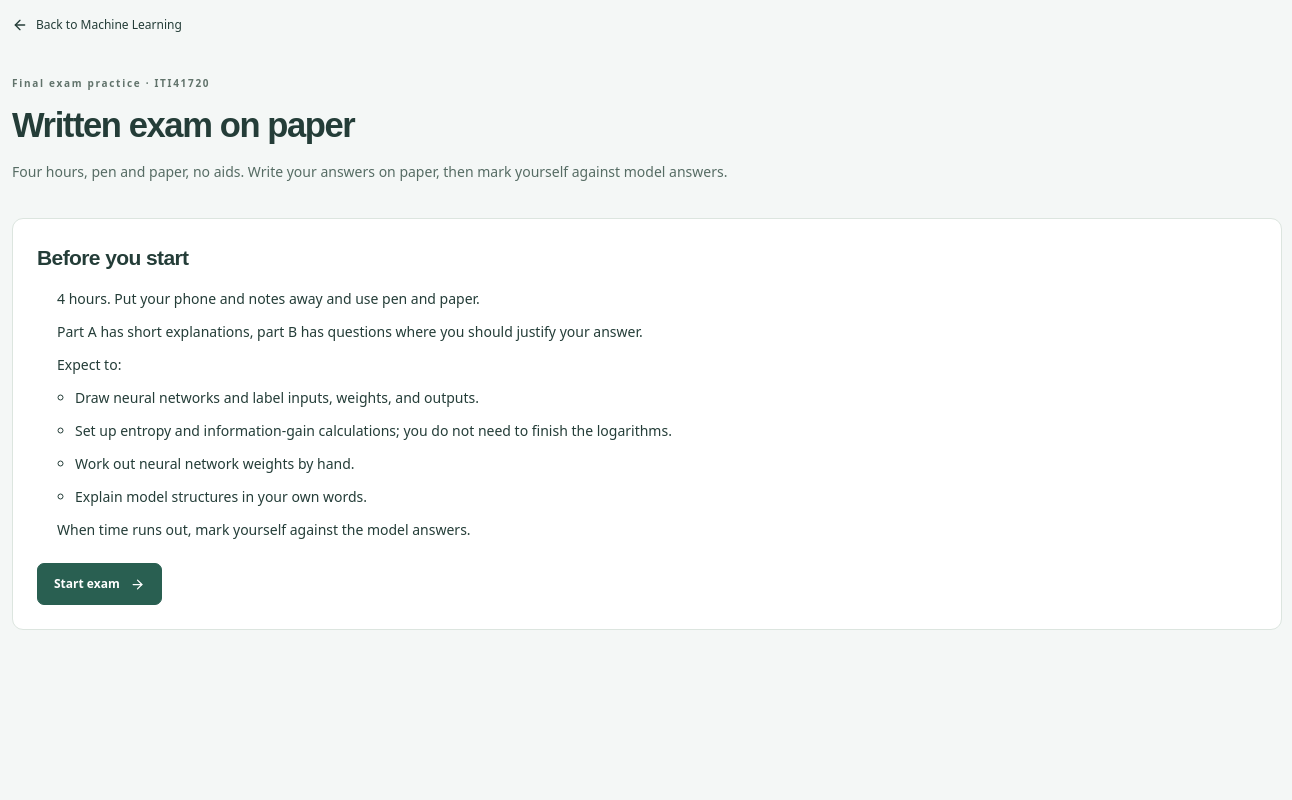
runs a four-hour written exam and lets you mark yourself
What coordinates should you click on to do the following:
click the button "Start exam"
I would click on:
 (99, 584)
Its box is [37,563,162,605].
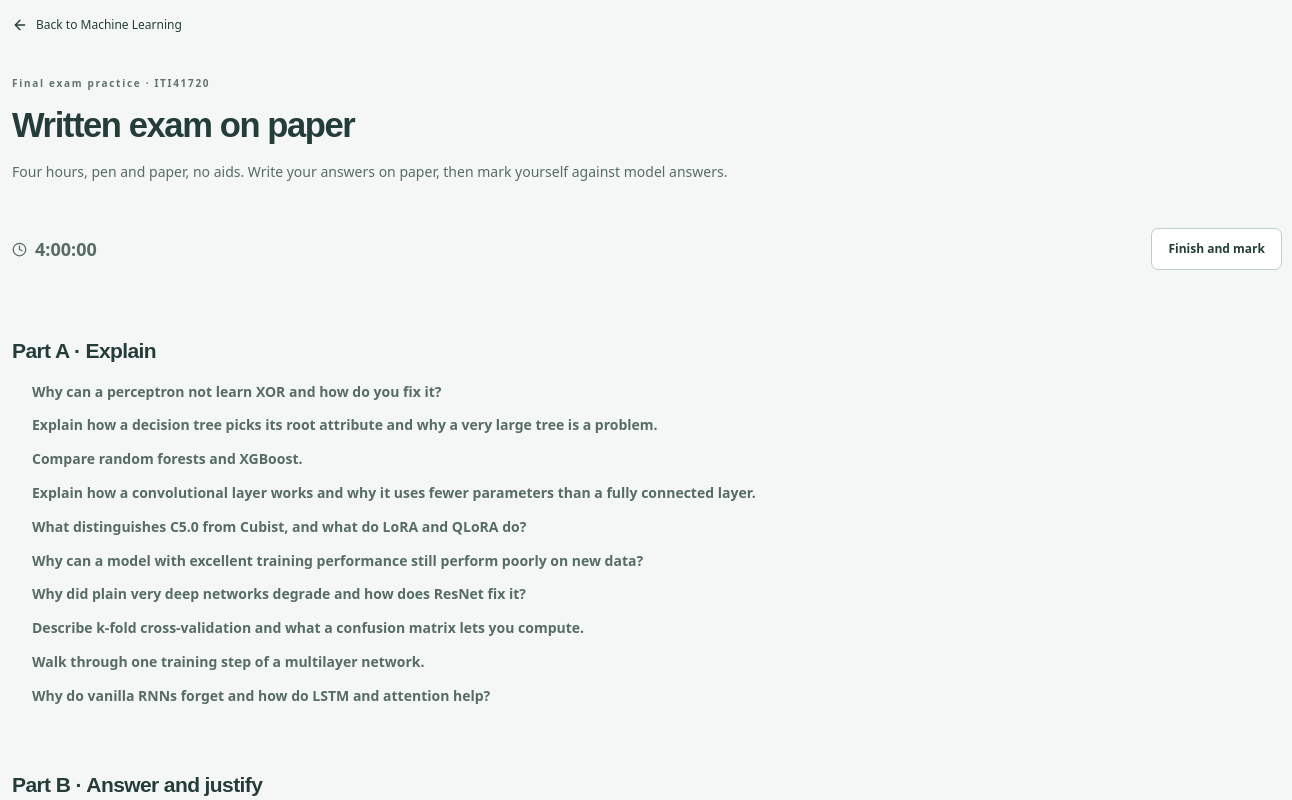
Result: the element showing "4:00:00" is shown at [12,234,97,265]
Result: the heading "Part A · Explain" is shown at [12,339,156,362]
What coordinates should you click on to do the following:
click the button "Finish and mark"
I would click on:
 (1217, 249)
Its box is [1152,228,1282,270].
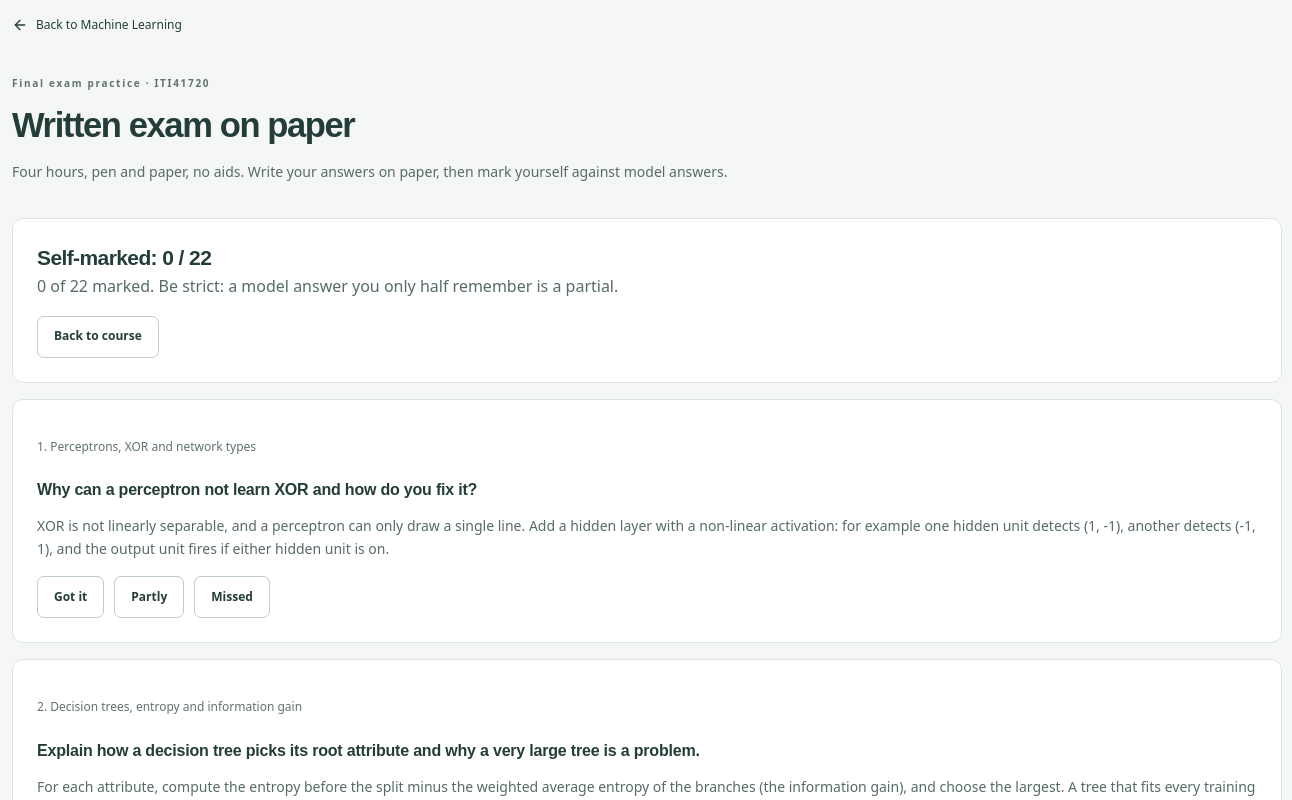
What coordinates should you click on to do the following:
click the button "Got it"
I would click on:
 (71, 597)
Its box is [37,576,104,618].
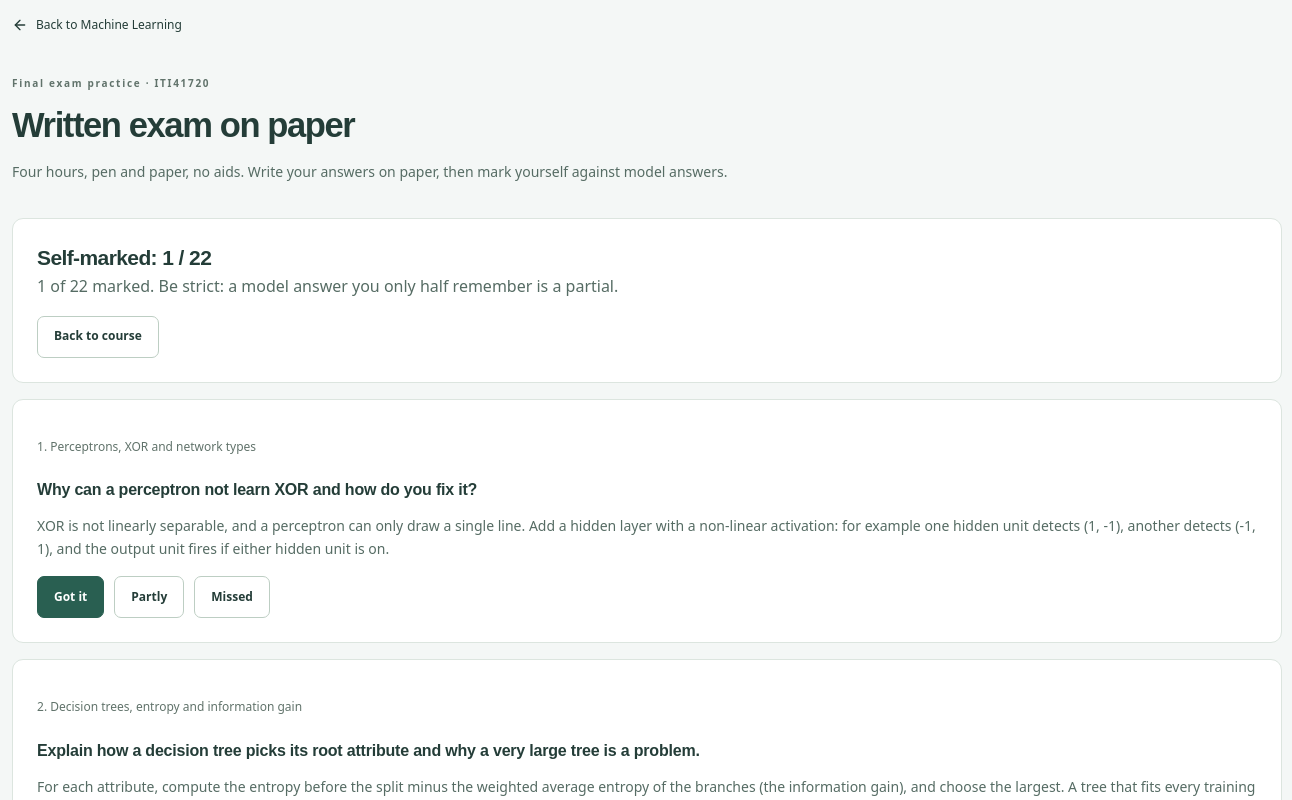
Result: the heading "Self-marked: 1 / 22" is shown at [37,246,211,269]
